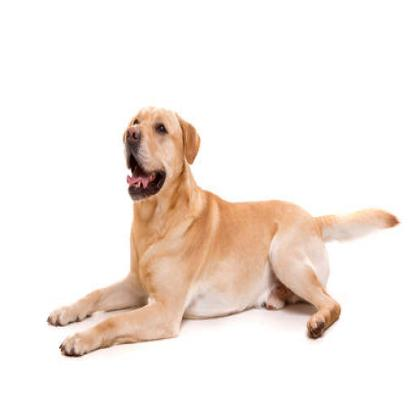Labarador Retriever: (44, 107, 396, 354)
